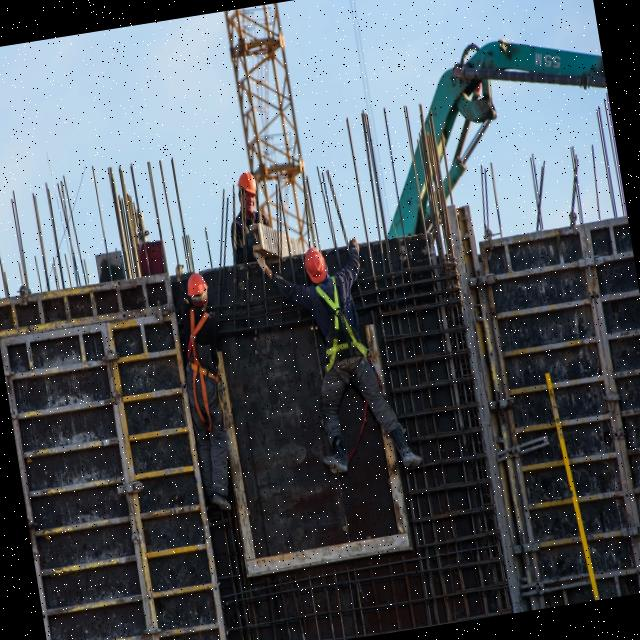Helmet: (304, 246, 330, 286), (186, 272, 212, 301), (237, 173, 259, 198)
NoJacket: (312, 277, 360, 364), (180, 305, 221, 393)
